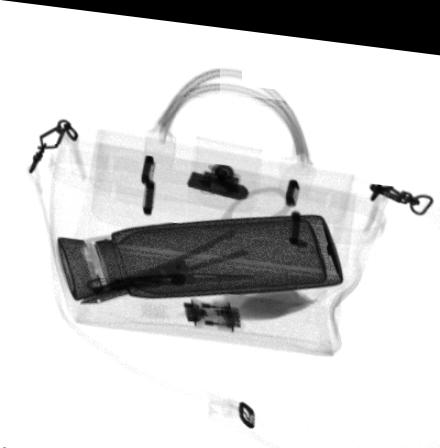Knife: (86, 266, 254, 293)
Scissors: (80, 181, 317, 302)
